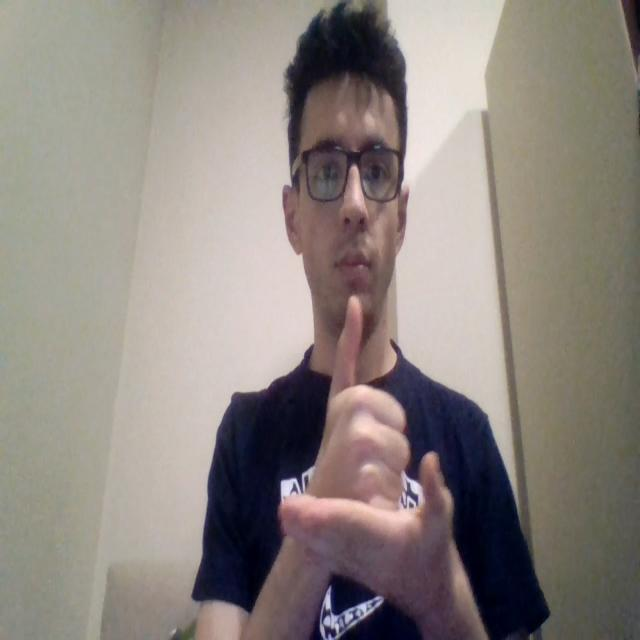help: (280, 297, 459, 618)
